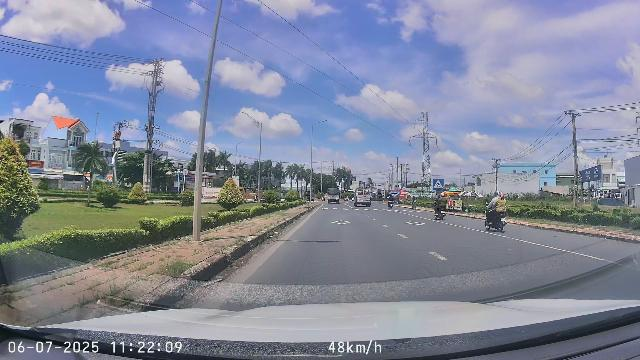423a-duong-nguoi-di-bo-sang-ngang-1: (432, 178, 444, 190)
